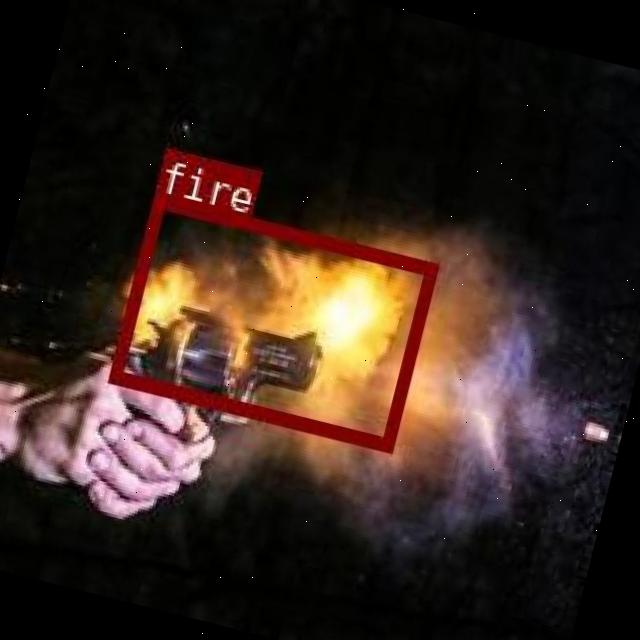fire: (108, 191, 434, 449)
